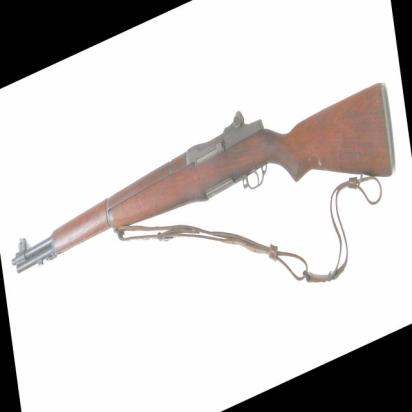Gun: (12, 80, 394, 280)
